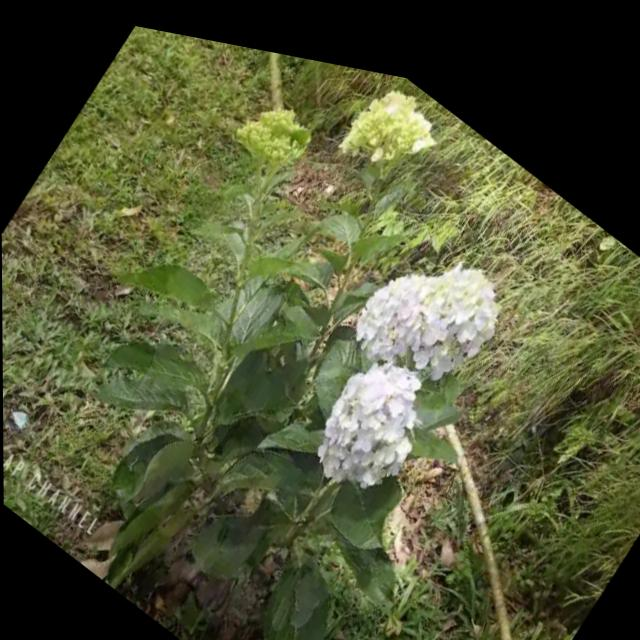Flower: (343, 193, 521, 403), (296, 324, 442, 509)
